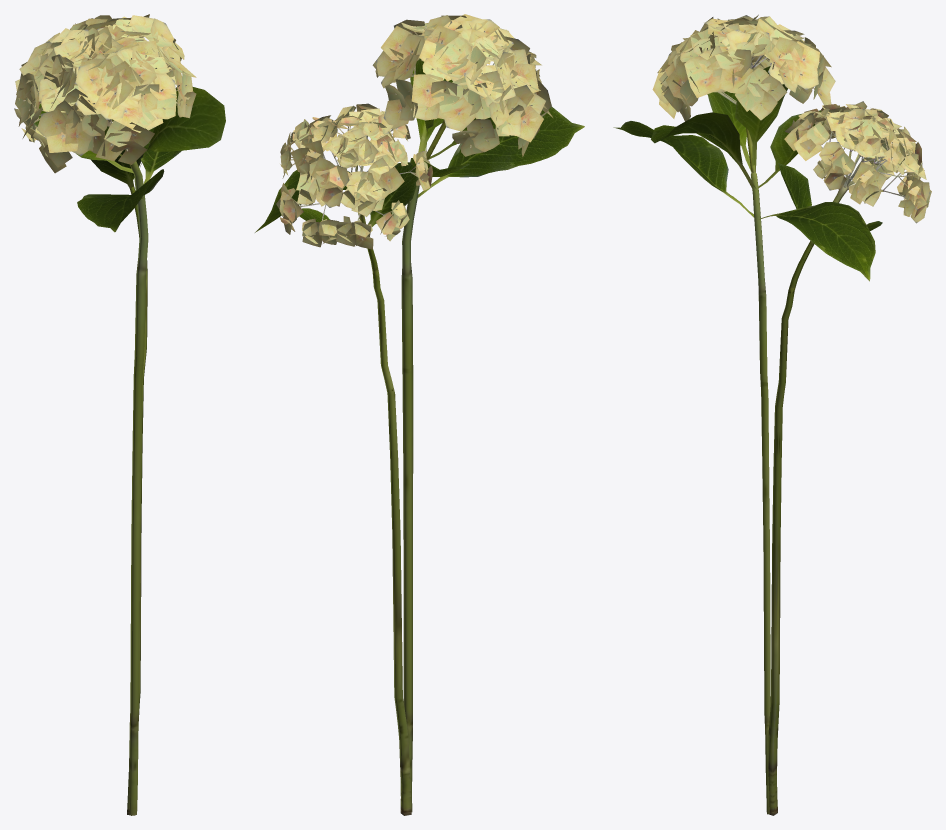
Rendered from Hydrangea_bush_long_yellowgreen.glb.
The picture shows the model from 3 angles, left to right: view 1: azimuth 30°, elevation 25°; view 2: azimuth 150°, elevation 25°; view 3: azimuth 270°, elevation 25°; orthographic projection. The views are drawn at different scales.
Parts seen in each view (by area): view 1: BUSHEKK; view 2: BUSHEKK; view 3: BUSHEKK.
Part boxes in pixels (box(x1,y1,x2,y2)): BUSHEKK: box(14, 14, 225, 815); BUSHEKK: box(255, 14, 584, 815); BUSHEKK: box(613, 14, 931, 815).
Bounding box in the file's own units: 1.48 × 5.02 × 1.87.
Materials: 1 (1 with a texture image).
